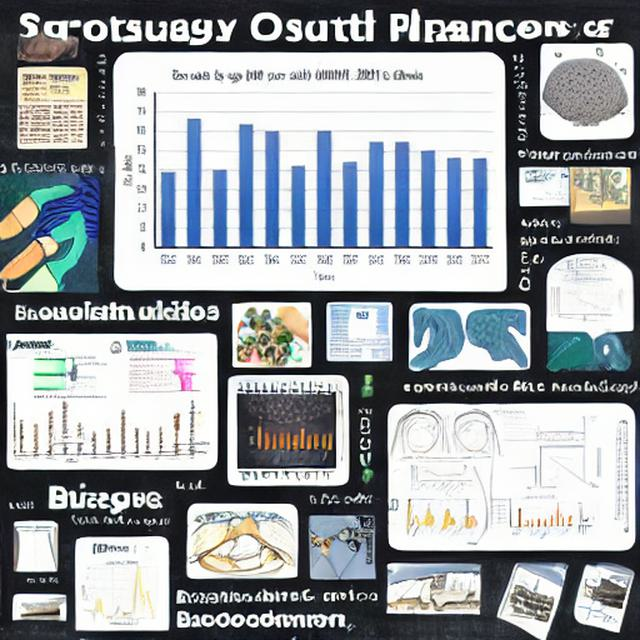Graph: (116, 64, 501, 287), (7, 392, 131, 468), (77, 557, 167, 625), (245, 415, 336, 468), (501, 494, 575, 539), (552, 278, 615, 322), (409, 458, 475, 497)
